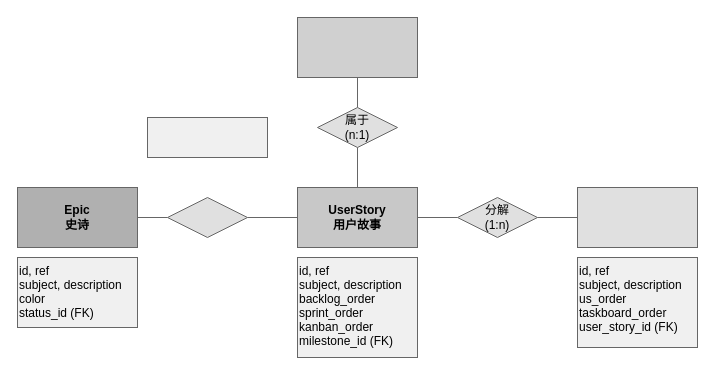
Image size: 715x375. Some labels were removed from this diagram. Each missing label, with the centre of its shape:
"Milestone 冲刺" goes at point 357,47.
"RelatedUserStory (关联表)" goes at point 207,137.
"Task 任务" goes at point 637,217.
"关联 (n:m)" goes at point 207,217.
